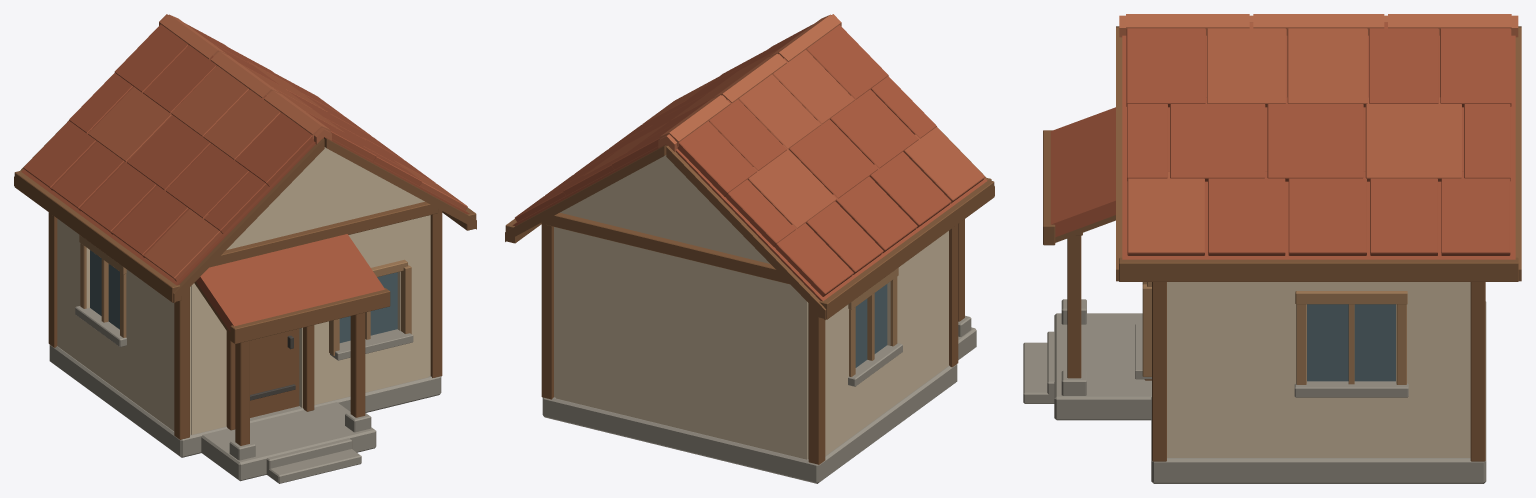
3 views of the same model, side by side, from view 1: azimuth 30°, elevation 25°; view 2: azimuth 150°, elevation 25°; view 3: azimuth 270°, elevation 25° (orthographic). The views are drawn at different scales.
Parts seen in each view (by area): view 1: village-cottage-01; view 2: village-cottage-01; view 3: village-cottage-01.
Boxes of the visible parts, x1=… form: village-cottage-01: x1=14, y1=14, x2=476, y2=483; village-cottage-01: x1=505, y1=14, x2=994, y2=483; village-cottage-01: x1=1023, y1=14, x2=1521, y2=483.
Bounding box in the file's own units: 4.75 × 4.6 × 5.32.
